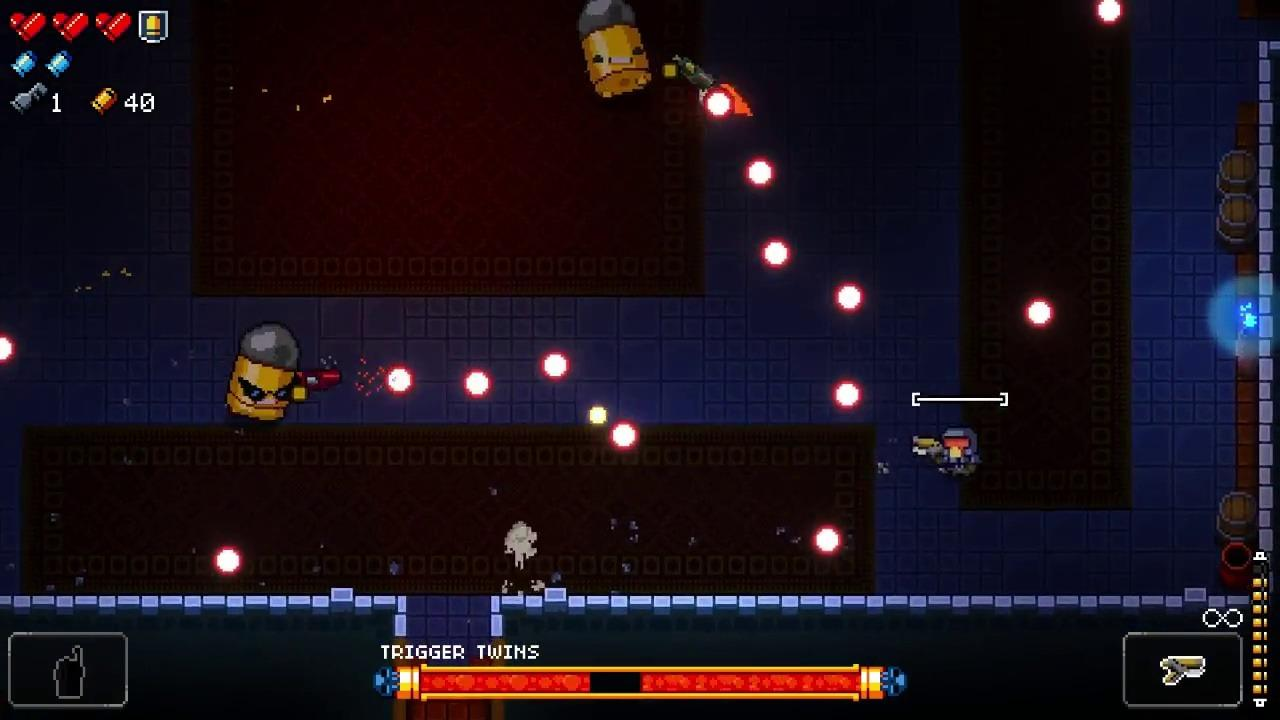boss_shades: (227, 323, 301, 423)
boss_smiley: (575, 0, 652, 100)
bullet: (211, 546, 244, 579), (540, 351, 573, 384), (607, 421, 642, 452), (385, 362, 415, 398), (834, 282, 864, 317), (462, 368, 493, 401), (833, 380, 864, 412), (1024, 298, 1055, 329), (744, 157, 774, 189), (703, 92, 736, 120), (813, 526, 842, 557), (765, 236, 789, 269), (1095, 0, 1124, 24), (0, 335, 14, 366)
player: (938, 427, 983, 479)
